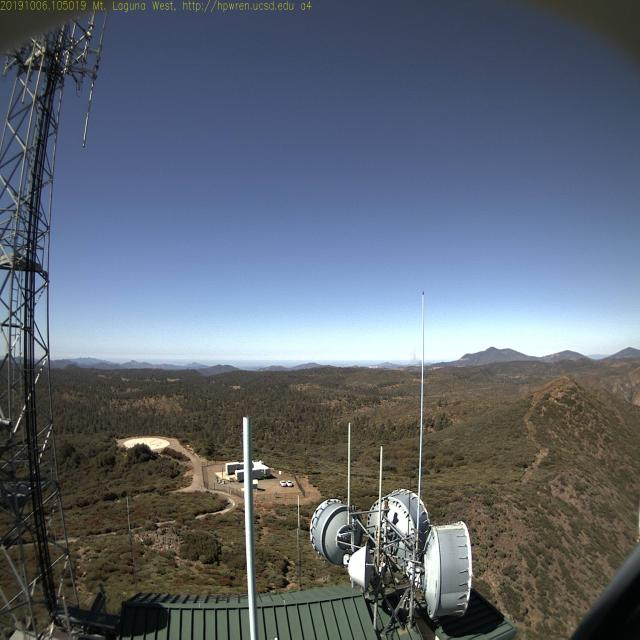smoke: (406, 350, 426, 368)
